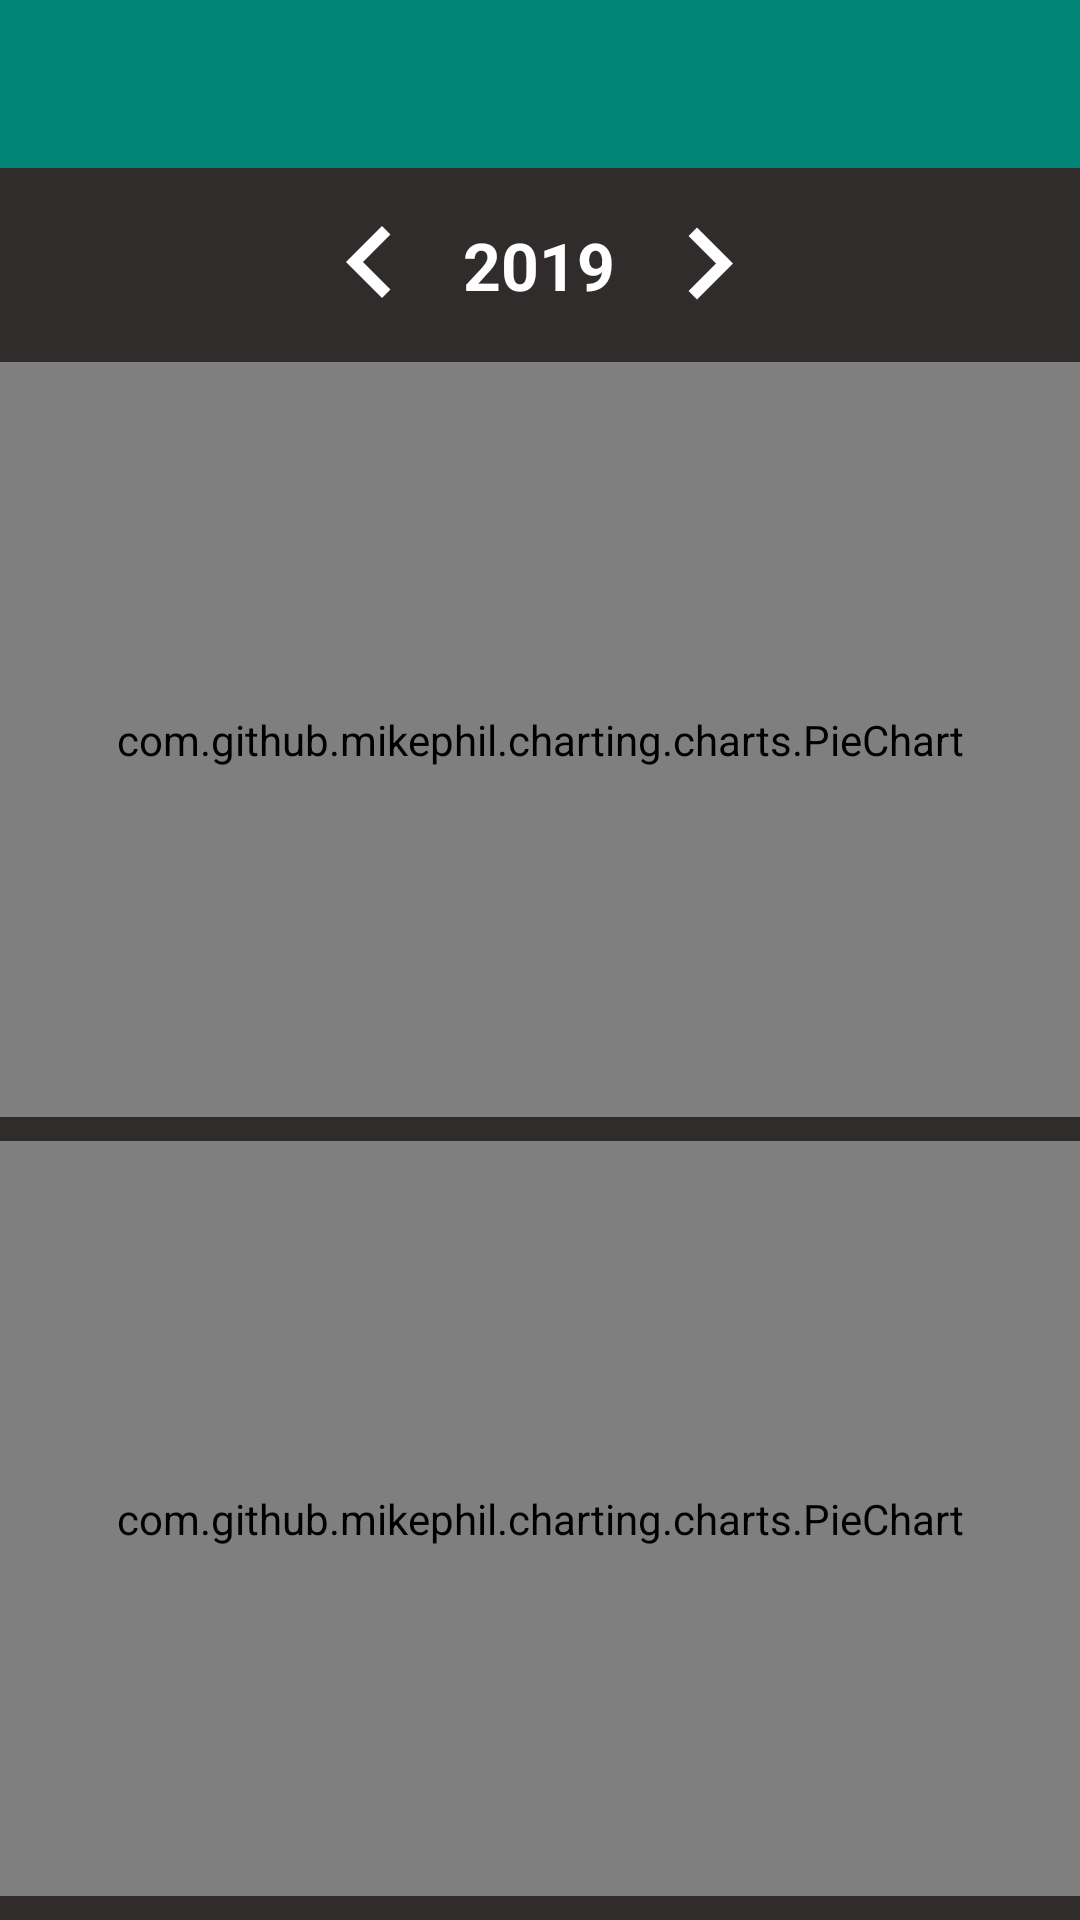

Locate icon controls on the screen. Image size 1080px x 1920px, boxes as {"left": x1, "top": y1, "right": x2, "bottom": y2}.
left arrow: {"left": 346, "top": 226, "right": 391, "bottom": 298}
right arrow: {"left": 689, "top": 227, "right": 733, "bottom": 300}
